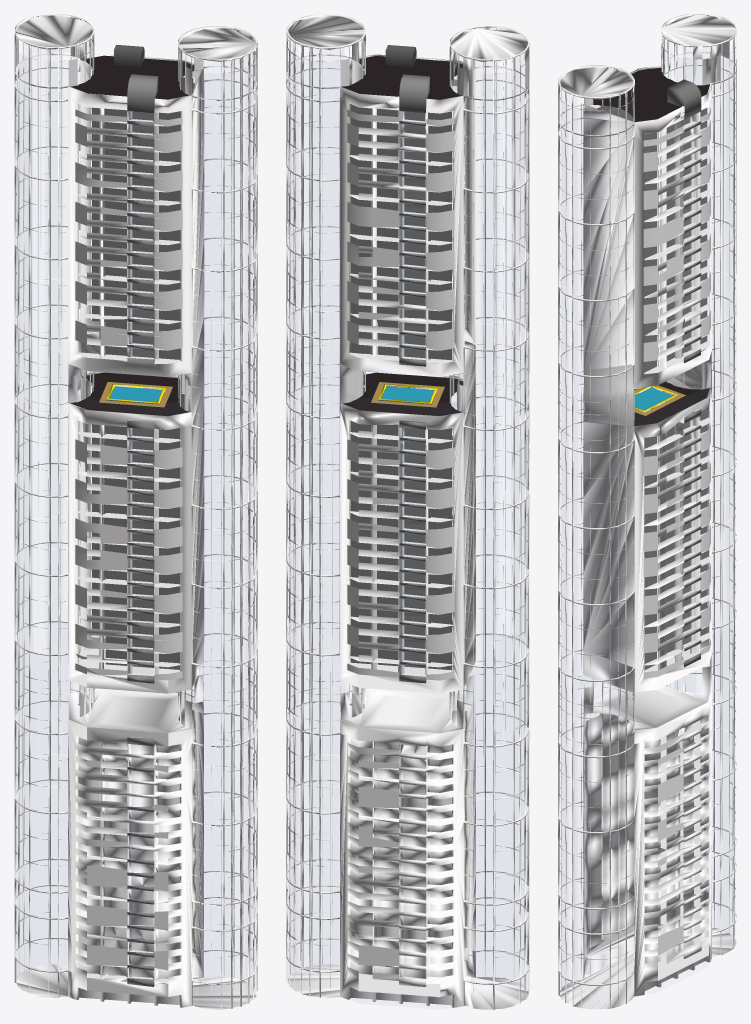
File: building-5.glb
The picture shows the model from 3 angles, left to right: view 1: azimuth 30°, elevation 25°; view 2: azimuth 210°, elevation 25°; view 3: azimuth 270°, elevation 25°; orthographic projection. The views are drawn at different scales.
Visible parts, largest first — view 1: part_00, part_01, part_04, part_08, part_03, part_05, part_12, part_09, part_02, part_16, part_14; view 2: part_00, part_01, part_04, part_08, part_03, part_05, part_12, part_09, part_02, part_16, part_14; view 3: part_00, part_04, part_01, part_03, part_08, part_05, part_12, part_09, part_02, part_16.
Boxes of the visible parts, bbox=[...] form: part_00: bbox=[14, 14, 257, 1009]; part_01: bbox=[16, 49, 252, 985]; part_04: bbox=[19, 54, 257, 996]; part_08: bbox=[92, 70, 193, 669]; part_03: bbox=[75, 75, 194, 970]; part_05: bbox=[114, 44, 158, 986]; part_12: bbox=[71, 55, 200, 99]; part_09: bbox=[71, 372, 188, 416]; part_02: bbox=[78, 313, 203, 983]; part_16: bbox=[110, 386, 162, 401]; part_14: bbox=[99, 382, 172, 407]; part_00: bbox=[286, 14, 529, 1009]; part_01: bbox=[291, 54, 527, 988]; part_04: bbox=[287, 54, 529, 997]; part_08: bbox=[350, 71, 451, 670]; part_03: bbox=[347, 79, 464, 966]; part_05: bbox=[385, 45, 429, 683]; part_12: bbox=[342, 56, 463, 99]; part_09: bbox=[343, 372, 463, 415]; part_02: bbox=[349, 283, 470, 979]; part_16: bbox=[381, 386, 433, 402]; part_14: bbox=[371, 382, 444, 407]; part_00: bbox=[558, 14, 736, 1009]; part_04: bbox=[560, 53, 735, 980]; part_01: bbox=[562, 51, 732, 987]; part_03: bbox=[639, 107, 710, 955]; part_08: bbox=[597, 105, 707, 669]; part_05: bbox=[667, 79, 701, 666]; part_12: bbox=[593, 67, 709, 122]; part_09: bbox=[634, 381, 709, 426]; part_02: bbox=[583, 303, 708, 967]; part_16: bbox=[634, 387, 672, 409].
Bounding box in the file's own units: 218 × 1107 × 197.
Materials: 8 (4 with a texture image).
